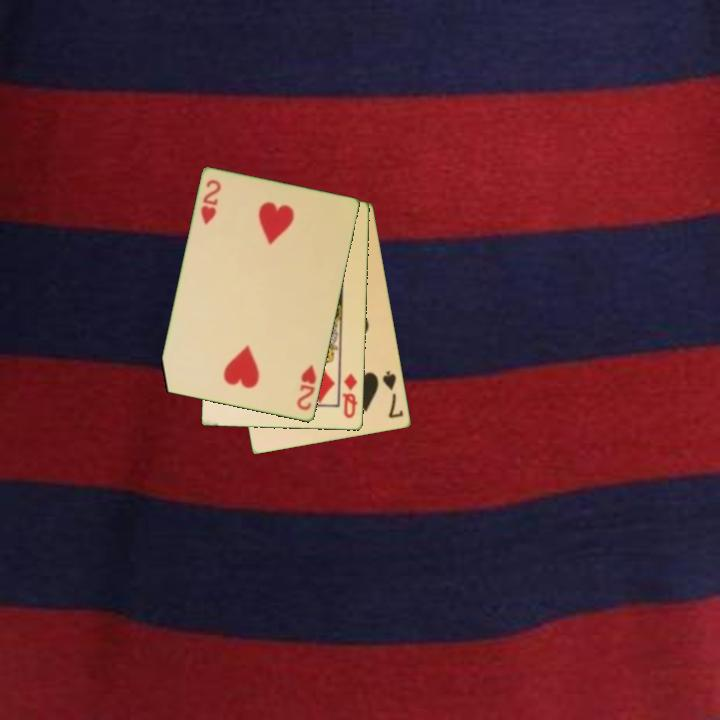2h: (197, 176, 224, 228), (293, 362, 320, 413)
7s: (379, 367, 406, 421)
Qd: (339, 370, 361, 421)
